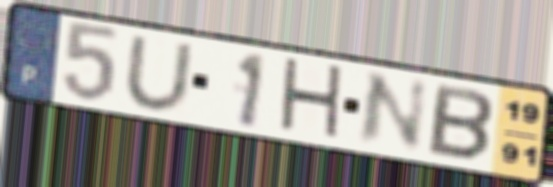1: (234, 50, 268, 132)
5: (60, 20, 120, 107)
B: (423, 80, 496, 164)
H: (275, 54, 347, 146)
N: (352, 69, 432, 153)
U: (121, 33, 196, 115)
